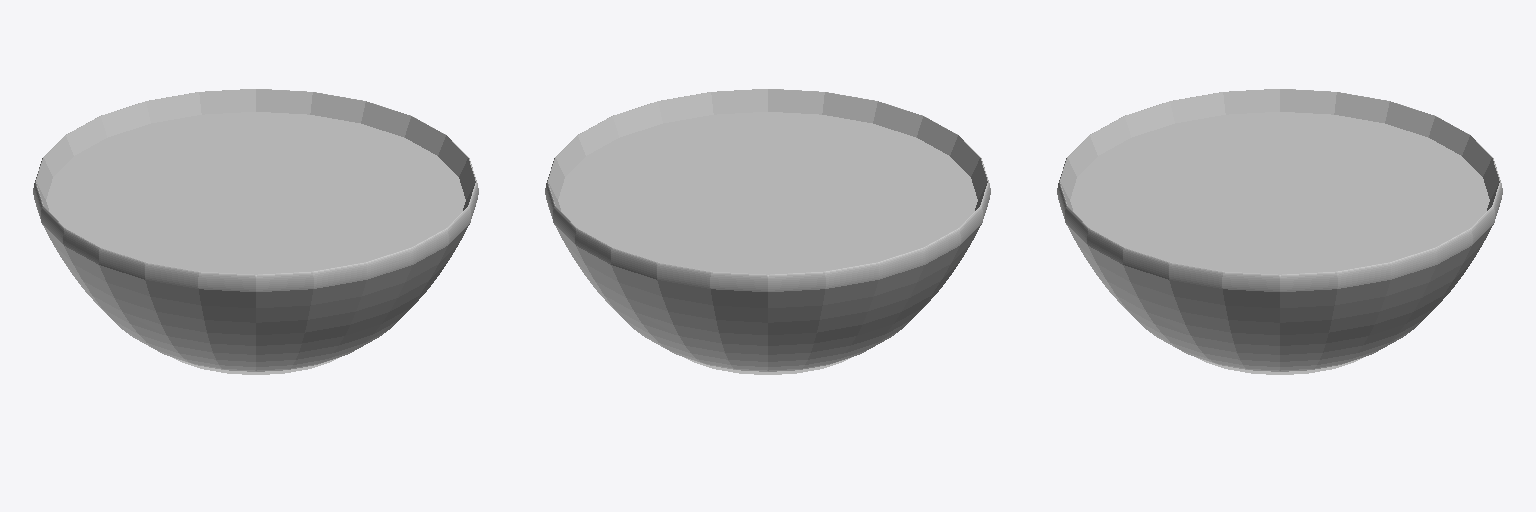
The model's file is comida2.obj.
3 renders of one model, left to right at view 1: azimuth 30°, elevation 25°; view 2: azimuth 150°, elevation 25°; view 3: azimuth 270°, elevation 25°, orthographic.
Parts seen in each view (by area): view 1: Malla de Mesh124 Component_5_1 Model, Malla de Mesh123 Component_210_3 Component_5_1 Model; view 2: Malla de Mesh124 Component_5_1 Model, Malla de Mesh123 Component_210_3 Component_5_1 Model; view 3: Malla de Mesh124 Component_5_1 Model, Malla de Mesh123 Component_210_3 Component_5_1 Model.
Boxes of the visible parts, <box> form: Malla de Mesh124 Component_5_1 Model: <box>46,112,465,274</box>; Malla de Mesh123 Component_210_3 Component_5_1 Model: <box>33,89,478,374</box>; Malla de Mesh124 Component_5_1 Model: <box>558,112,977,274</box>; Malla de Mesh123 Component_210_3 Component_5_1 Model: <box>545,89,990,374</box>; Malla de Mesh124 Component_5_1 Model: <box>1070,112,1489,274</box>; Malla de Mesh123 Component_210_3 Component_5_1 Model: <box>1057,89,1502,374</box>.
Bounding box in the file's own units: 0.1841 × 0.0678 × 0.1841.